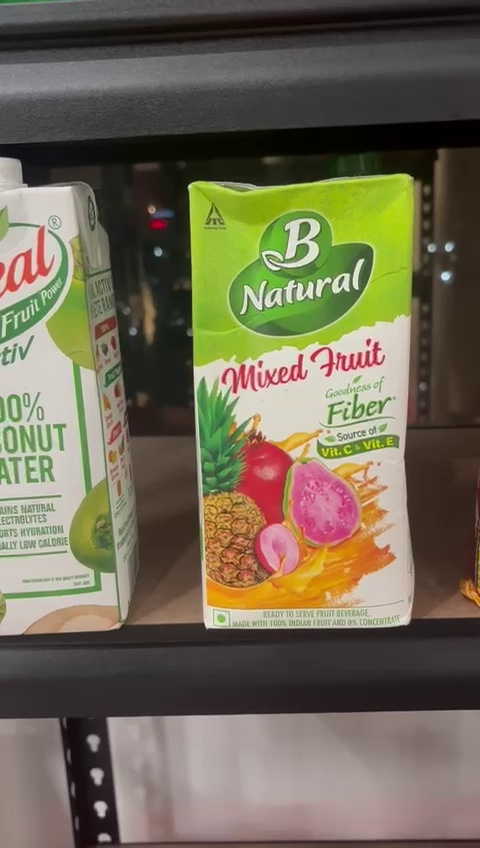Mixed Fruit: (189, 176, 409, 630)
